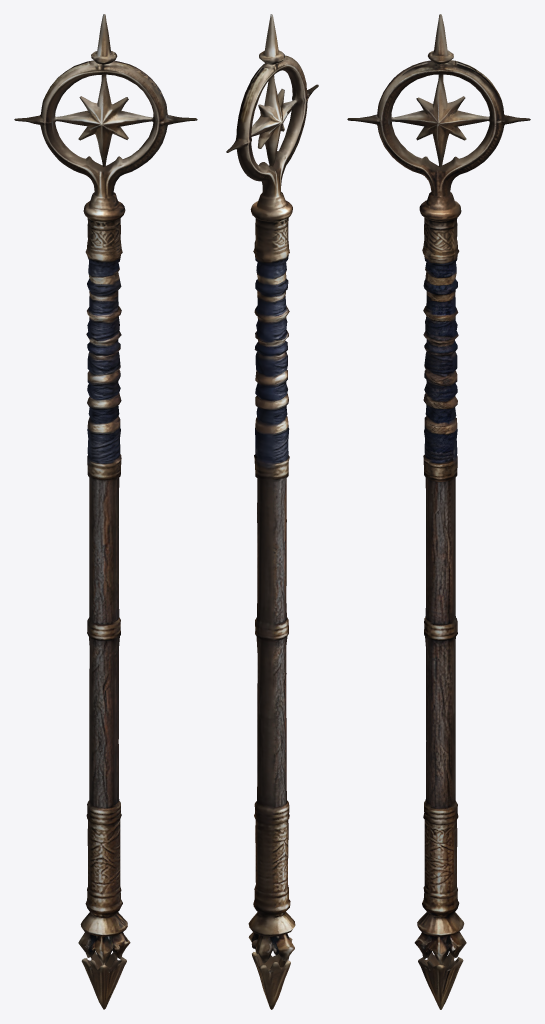
The model's file is wayfinder_staff.glb.
3 renders of one model, left to right at view 1: azimuth 90°, elevation 25°; view 2: azimuth 150°, elevation 25°; view 3: azimuth 270°, elevation 25°, orthographic.
Parts seen in each view (by area): view 1: wayfinder_staff; view 2: wayfinder_staff; view 3: wayfinder_staff.
Boxes of the visible parts, <box> form: wayfinder_staff: <box>14,14,197,1009</box>; wayfinder_staff: <box>226,14,318,1009</box>; wayfinder_staff: <box>347,14,530,1009</box>.
Bounding box in the file's own units: 0.0881 × 1.82 × 0.305.
Materials: 1 (1 with a texture image).
